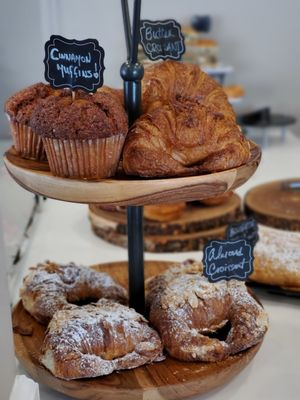salad: (144, 265, 270, 362), (42, 298, 164, 379), (19, 260, 129, 325)
sushi: (26, 84, 129, 180), (243, 176, 300, 292), (4, 82, 72, 161)
